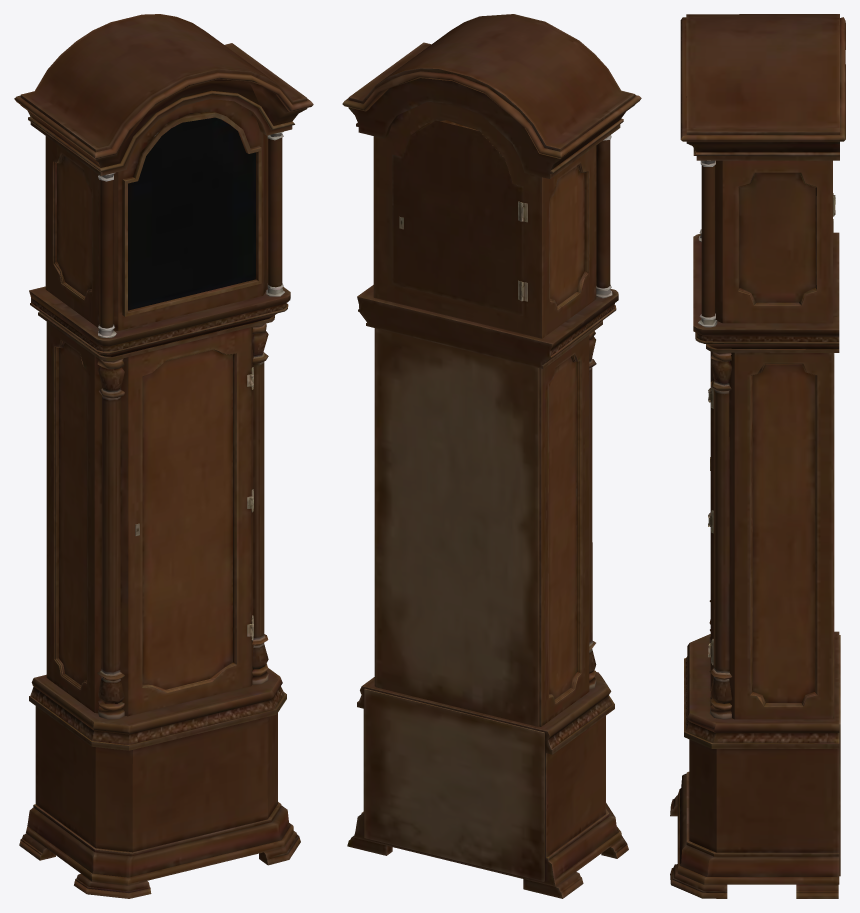
File: grandfather-clock.glb
The picture shows the model from 3 angles, left to right: view 1: azimuth 30°, elevation 25°; view 2: azimuth 150°, elevation 25°; view 3: azimuth 270°, elevation 25°; orthographic projection. The views are drawn at different scales.
Parts seen in each view (by area): view 1: vintage_grandfather_clock_01_body; view 2: vintage_grandfather_clock_01_body; view 3: vintage_grandfather_clock_01_body.
Boxes of the visible parts, box(x1,y1,x2,y2) form: vintage_grandfather_clock_01_body: box(14, 14, 313, 898); vintage_grandfather_clock_01_body: box(342, 14, 641, 898); vintage_grandfather_clock_01_body: box(670, 14, 845, 898).
Size of the model in its own units: 0.6256 by 2.19 by 0.4266.
2 materials, 2 textured.
